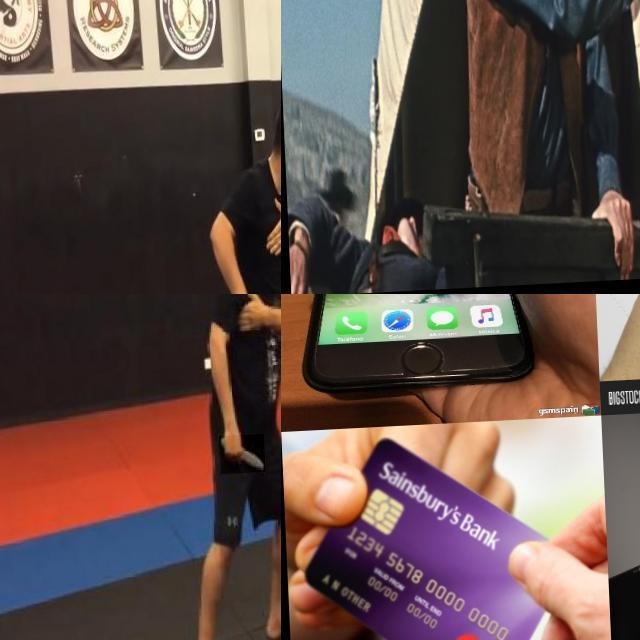-: (215, 438, 261, 478)
